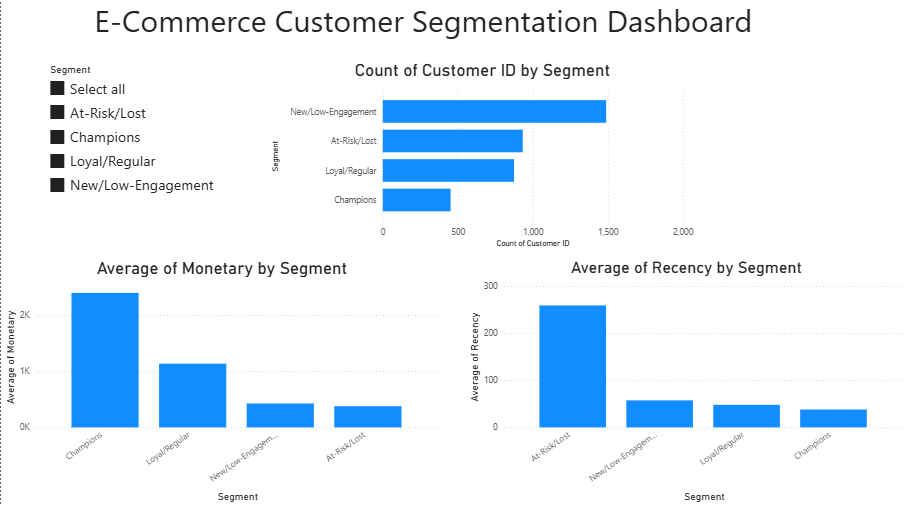

The dashboard page shown, as its layout file describes it:
{"tool":"powerbi","page":{"name":"Page 1","canvas":[1280,720],"ordinal":0},"visuals":[{"type":"clusteredBarChart","fields":{"Category":["rfm_clustered.Segment"],"Y":["CountNonNull(rfm_clustered.Customer ID)"]},"box":[376.9,90.4,605.6,269.6],"z":0},{"type":"clusteredColumnChart","fields":{"Category":["rfm_clustered.Segment"],"Y":["Avg(rfm_clustered.Monetary)"]},"box":[0,369.9,624,350.1],"z":1},{"type":"clusteredColumnChart","fields":{"Category":["rfm_clustered.Segment"],"Y":["Avg(rfm_clustered.Recency)"]},"box":[655.1,369.9,625.4,350.1],"z":2},{"type":"slicer","fields":{"Values":["rfm_clustered.Segment"]},"box":[56.5,90.4,320.5,201.9],"z":3},{"type":"textbox","box":[127.1,0,993.9,74.8],"z":4}]}

Visuals, with their boxes in screenshot pixels (x1, y1, x2, y2), scaled from the page's 1280x720 canvas onto the 916x530 screenshot:
clusteredBarChart - rfm_clustered.Segment x CountNonNull(rfm_clustered.Customer ID): (x1=270, y1=67, x2=703, y2=265)
clusteredColumnChart - rfm_clustered.Segment x Avg(rfm_clustered.Monetary): (x1=0, y1=272, x2=447, y2=529)
clusteredColumnChart - rfm_clustered.Segment x Avg(rfm_clustered.Recency): (x1=469, y1=272, x2=915, y2=529)
slicer - rfm_clustered.Segment: (x1=40, y1=67, x2=270, y2=215)
textbox: (x1=91, y1=0, x2=802, y2=55)
